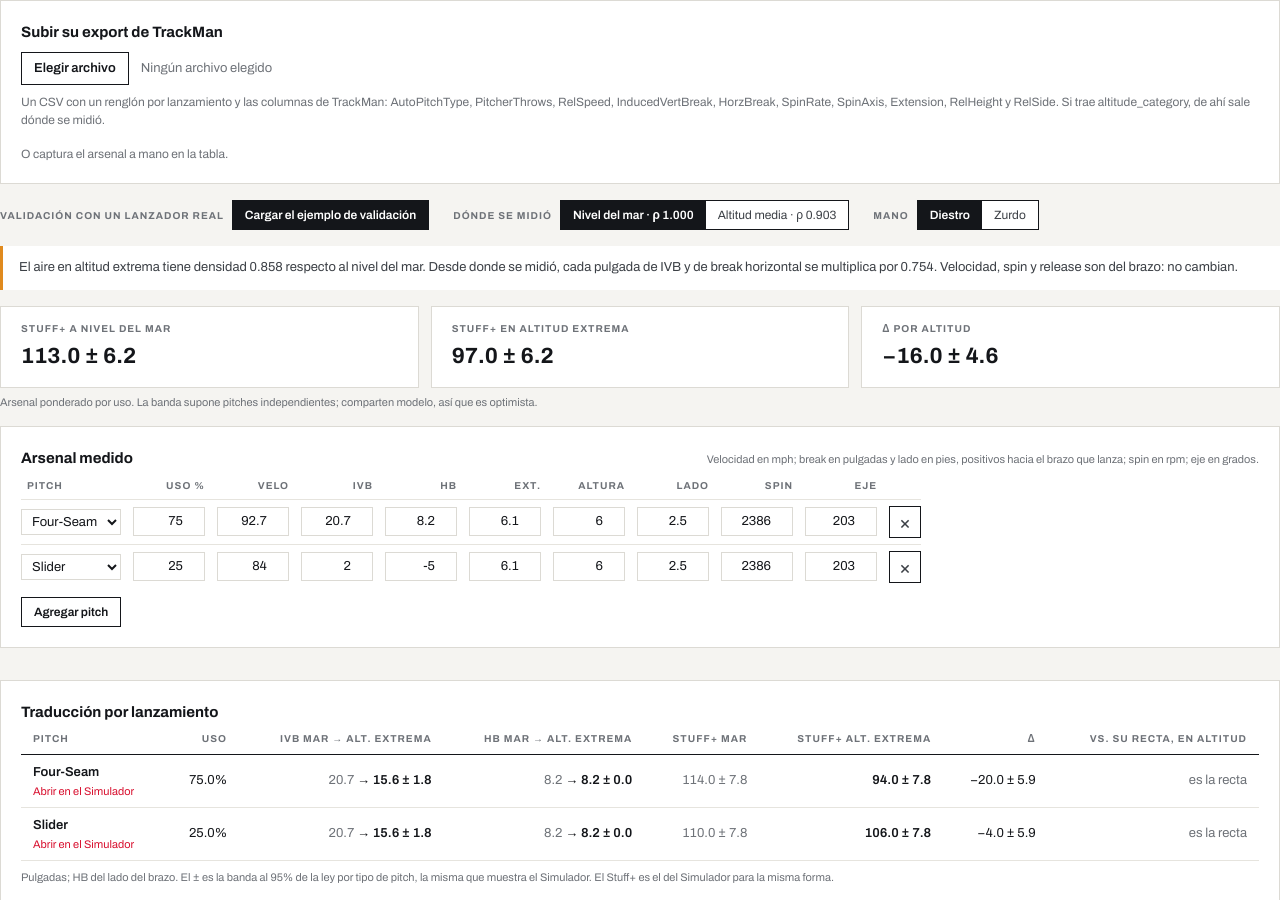
el Traductor › una celda fuera de rango se marca y no se pregunta
Replace the text in the number field named "Four-Seam · Velocidad de salida" with "130": (253, 522) [217,507,289,536]
Wait 400 ms
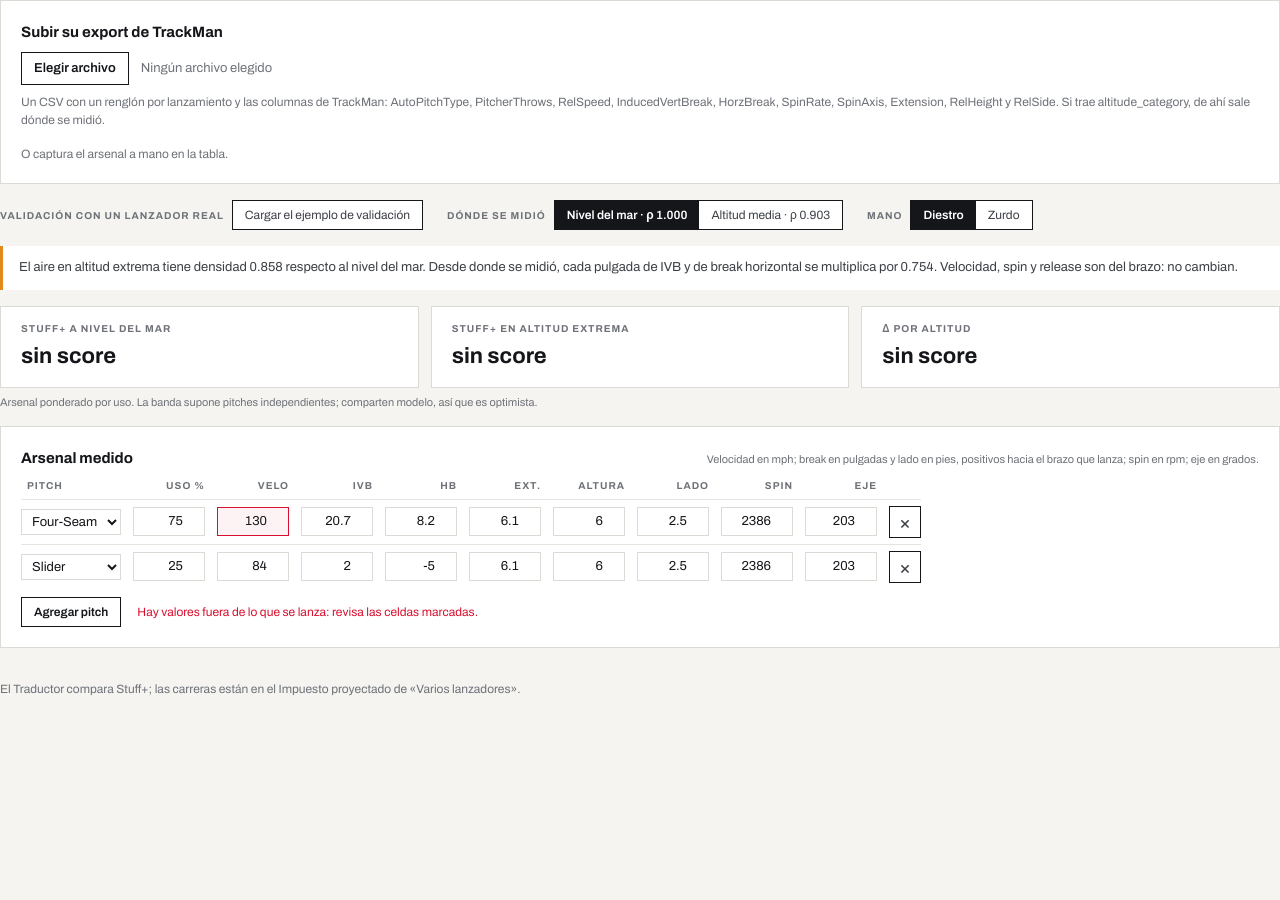
Result: the text "Hay valores fuera de lo que se lanza: revisa las celdas marcadas." is shown at [137,602,478,620]
